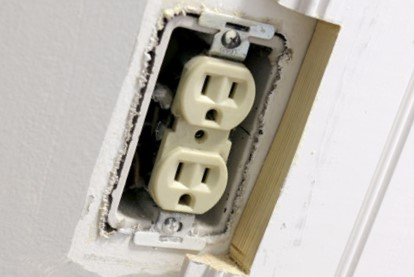outlet: (164, 153, 216, 213), (193, 65, 239, 127)
